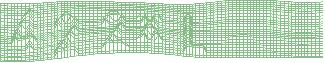2: (98, 10, 130, 54), (52, 11, 79, 58)
4: (8, 7, 37, 54)
L: (181, 13, 208, 56)
x: (135, 12, 165, 44)
